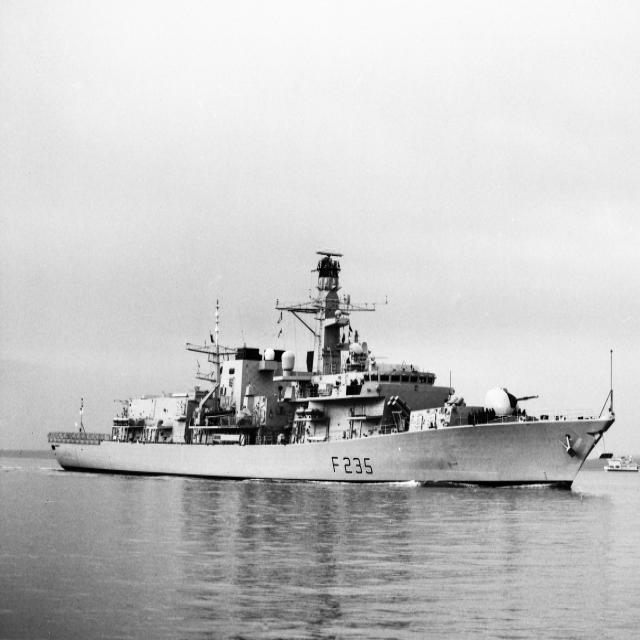Fragata: (41, 248, 625, 498)
